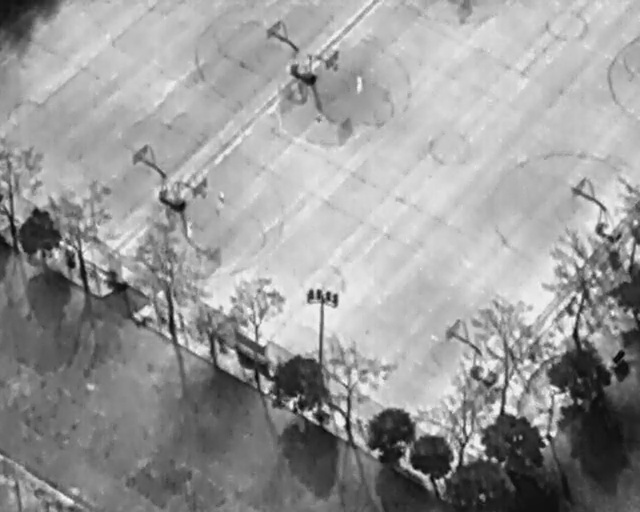Person: (355, 72, 362, 96), (216, 188, 224, 209), (186, 216, 193, 238)
